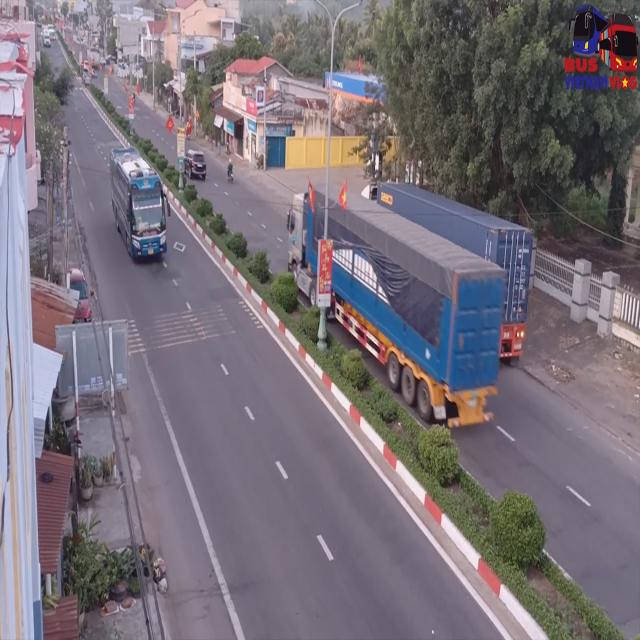bus: (113, 154, 171, 266)
car: (185, 146, 208, 180)
motorbike: (225, 159, 235, 186)
truck: (284, 185, 497, 429)
